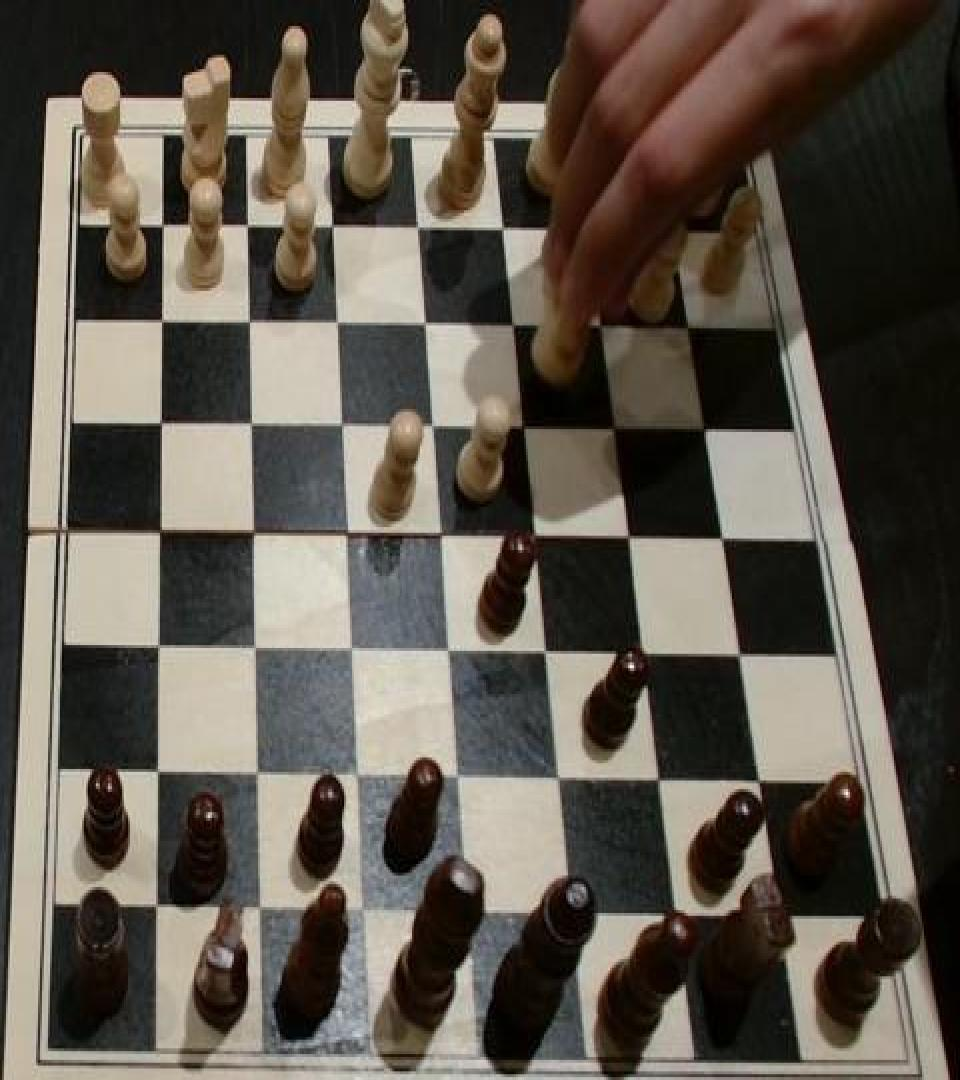xcorner: (767, 898, 795, 939), (746, 763, 774, 804), (727, 636, 755, 677), (708, 518, 736, 559), (691, 407, 719, 448), (662, 897, 690, 938), (628, 636, 656, 677), (613, 518, 641, 559), (599, 407, 627, 448), (543, 760, 571, 801), (452, 894, 480, 935), (442, 760, 470, 801), (408, 302, 436, 343), (330, 515, 358, 556), (320, 302, 348, 343), (315, 204, 343, 245), (244, 891, 272, 932), (241, 757, 269, 798), (238, 632, 266, 673), (231, 302, 259, 343), (229, 204, 257, 245), (144, 204, 172, 245), (675, 304, 703, 344), (660, 206, 688, 246), (645, 762, 673, 802), (586, 304, 614, 344), (573, 206, 601, 246), (557, 896, 585, 936), (530, 635, 558, 675), (518, 517, 546, 557), (507, 406, 535, 446), (497, 304, 525, 344), (487, 206, 515, 246), (433, 634, 461, 674), (424, 517, 452, 557), (416, 406, 444, 446), (401, 206, 429, 246), (348, 893, 376, 933), (341, 759, 369, 799), (335, 634, 363, 674), (325, 406, 353, 446), (236, 514, 264, 554), (234, 405, 262, 445), (140, 890, 168, 930), (141, 756, 169, 796), (142, 631, 170, 671), (142, 514, 170, 554), (143, 405, 171, 445), (143, 301, 171, 341)
